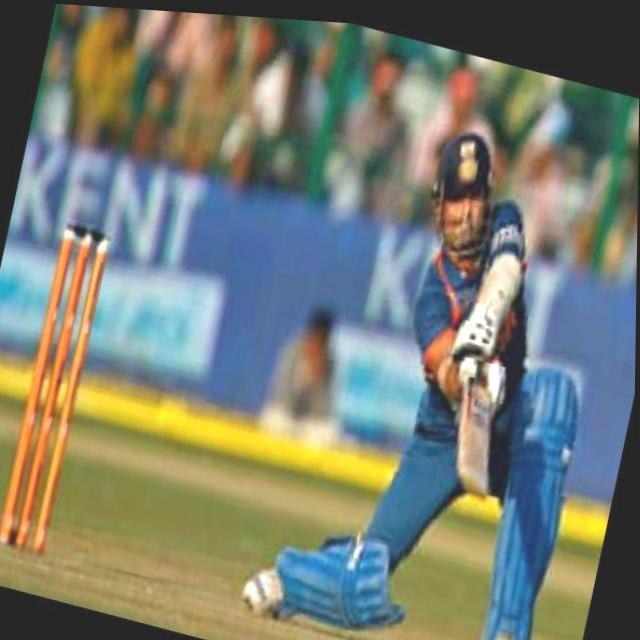-: (0, 392, 9, 501)
